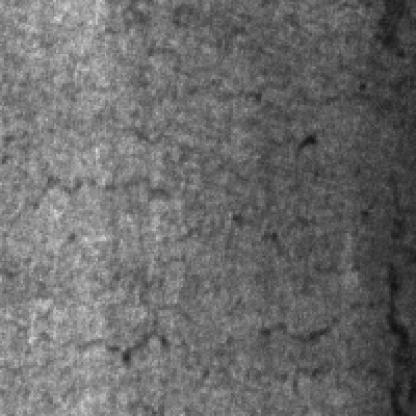crazing: (2, 171, 173, 278), (250, 225, 382, 339), (2, 296, 206, 368)
